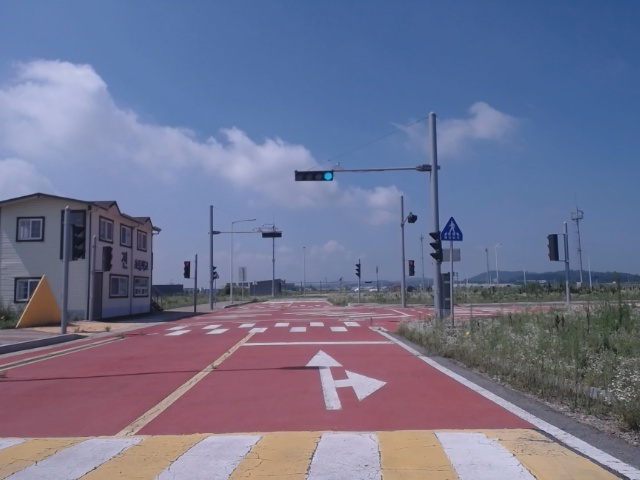straight_green_4: (295, 171, 334, 181)
